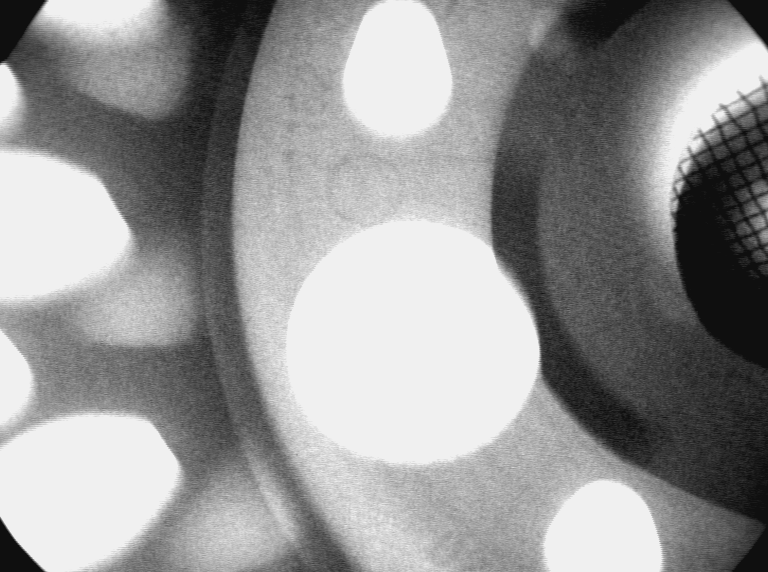defect: (526, 6, 578, 67)
